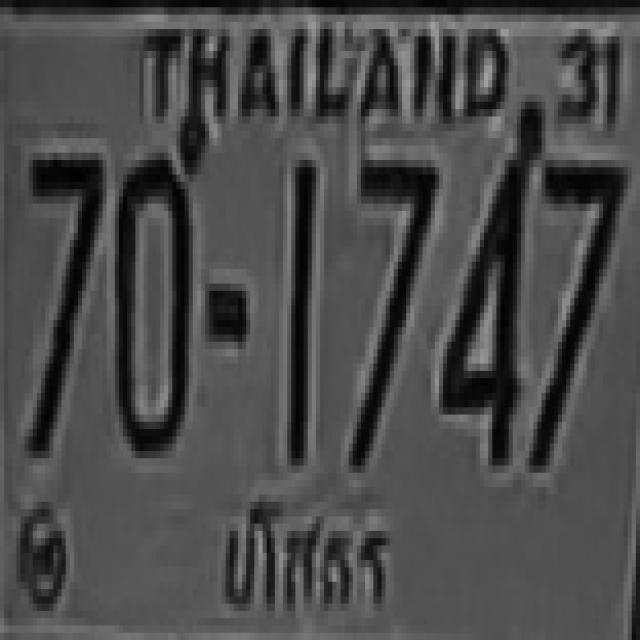0: (110, 153, 188, 451)
1: (287, 160, 312, 458)
4: (439, 138, 529, 458)
7: (529, 153, 624, 465), (349, 153, 435, 465), (26, 145, 100, 451)
Yasothon: (218, 478, 400, 634)
